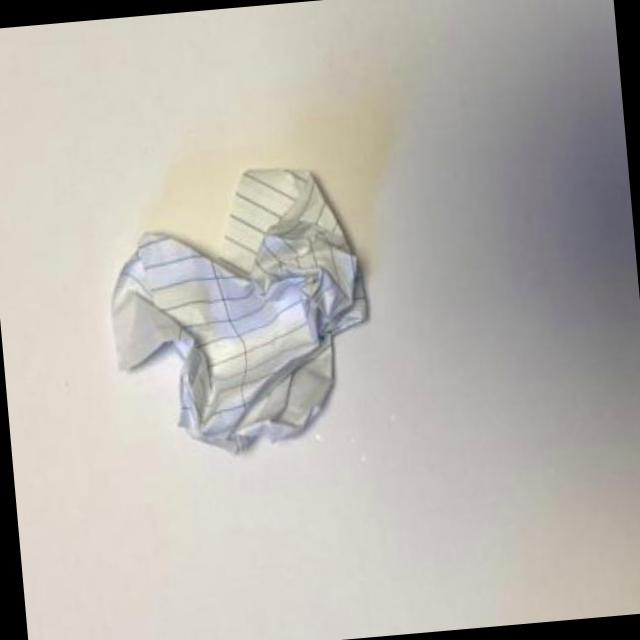cardboard paper: (110, 171, 365, 455)
